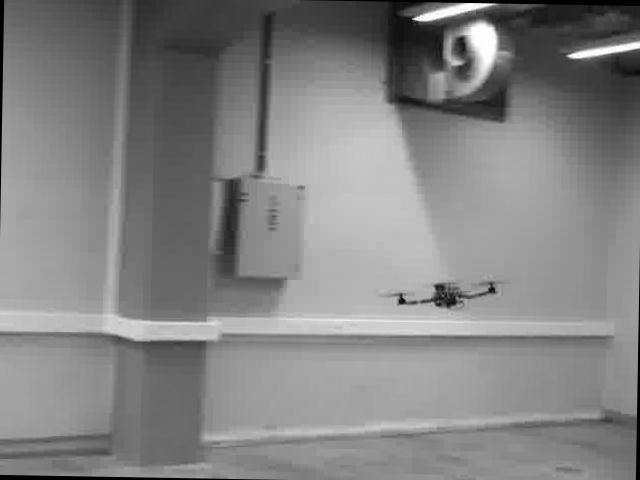drone: (386, 274, 504, 314)
